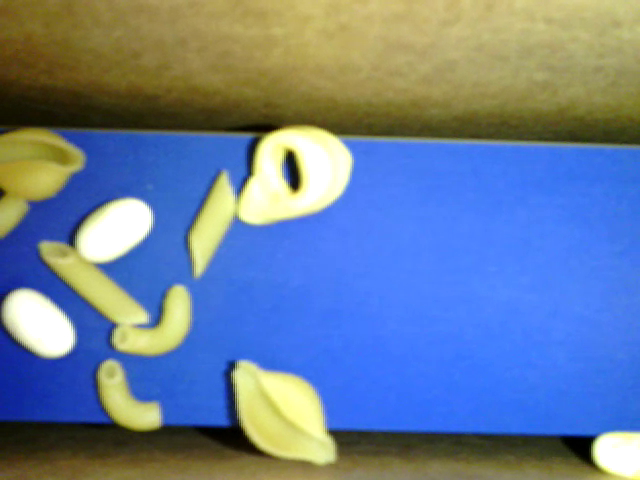elbow: (110, 285, 191, 355), (96, 359, 160, 430)
penne: (37, 240, 148, 326), (185, 171, 237, 277)
shell: (230, 358, 336, 467), (1, 128, 88, 203)
tortellini: (236, 125, 353, 224)
